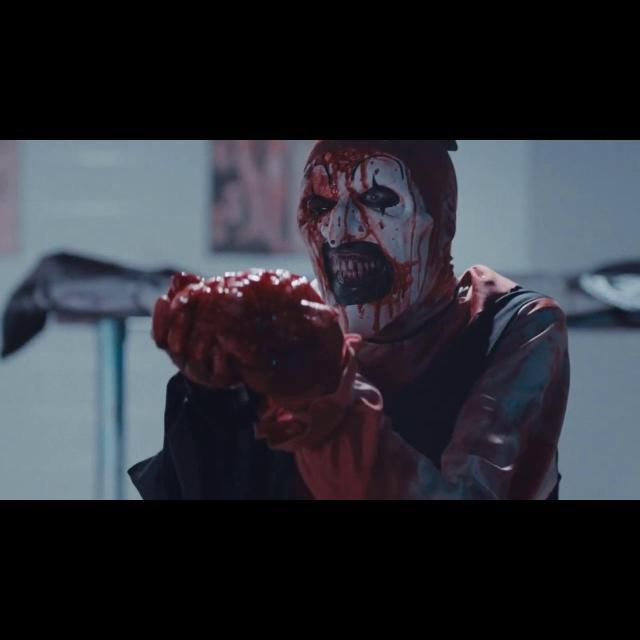blood: (152, 141, 570, 499)
